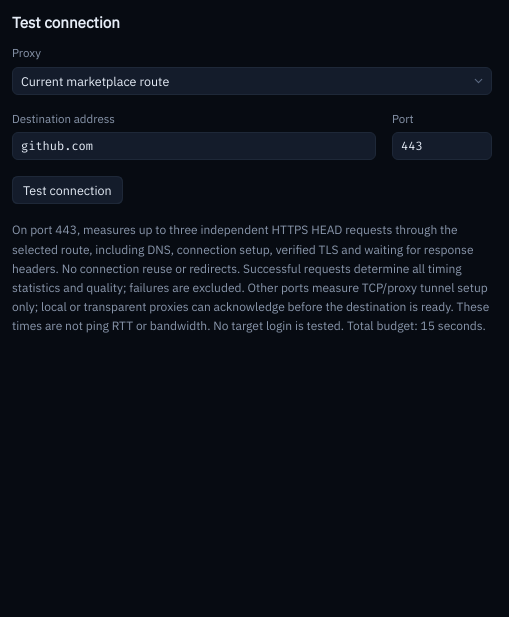
Test: does not invent an HTTPS measurement for TCP-only endpoints
This screenshot has width=509, height=617.
Replace the text in the number field labelled "Port" with "22" at (442, 146), box [392, 132, 492, 160]
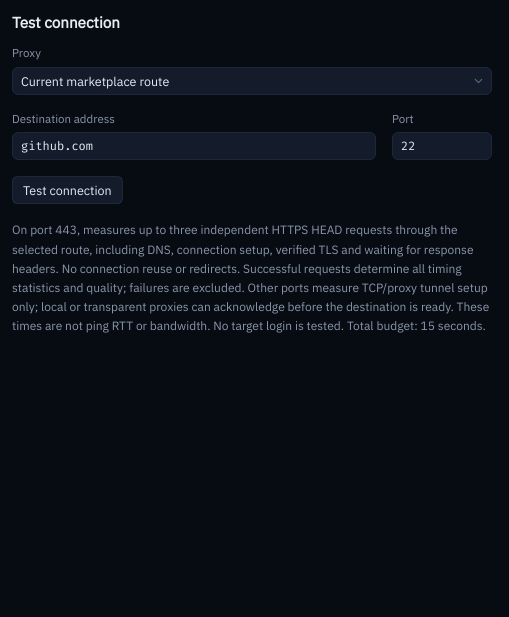
Submit the form, box [12, 45, 492, 336]
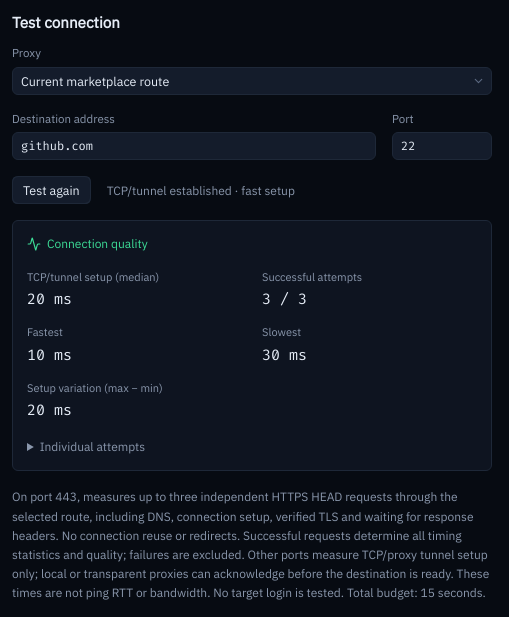
Check: the text "TCP/tunnel setup (median)" is shown, box [27, 270, 159, 284]
